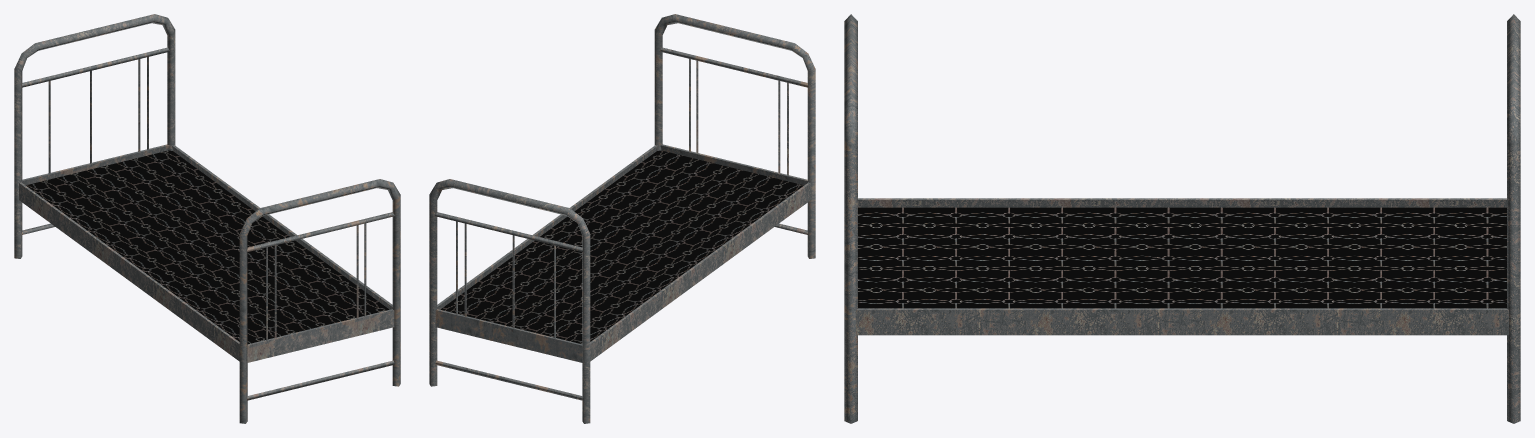
File: bed_mtl.FBX
3 views of the same model, side by side, from view 1: azimuth 30°, elevation 25°; view 2: azimuth 150°, elevation 25°; view 3: azimuth 270°, elevation 25° (orthographic). The views are drawn at different scales.
Visible parts, largest first — view 1: bed; view 2: bed; view 3: bed.
Boxes of the visible parts, bbox=[...] form: bed: bbox=[14, 14, 400, 423]; bed: bbox=[429, 14, 815, 423]; bed: bbox=[844, 14, 1520, 423].
Size of what is drawn, in the model's own units: 76.44 by 95.25 by 189.
